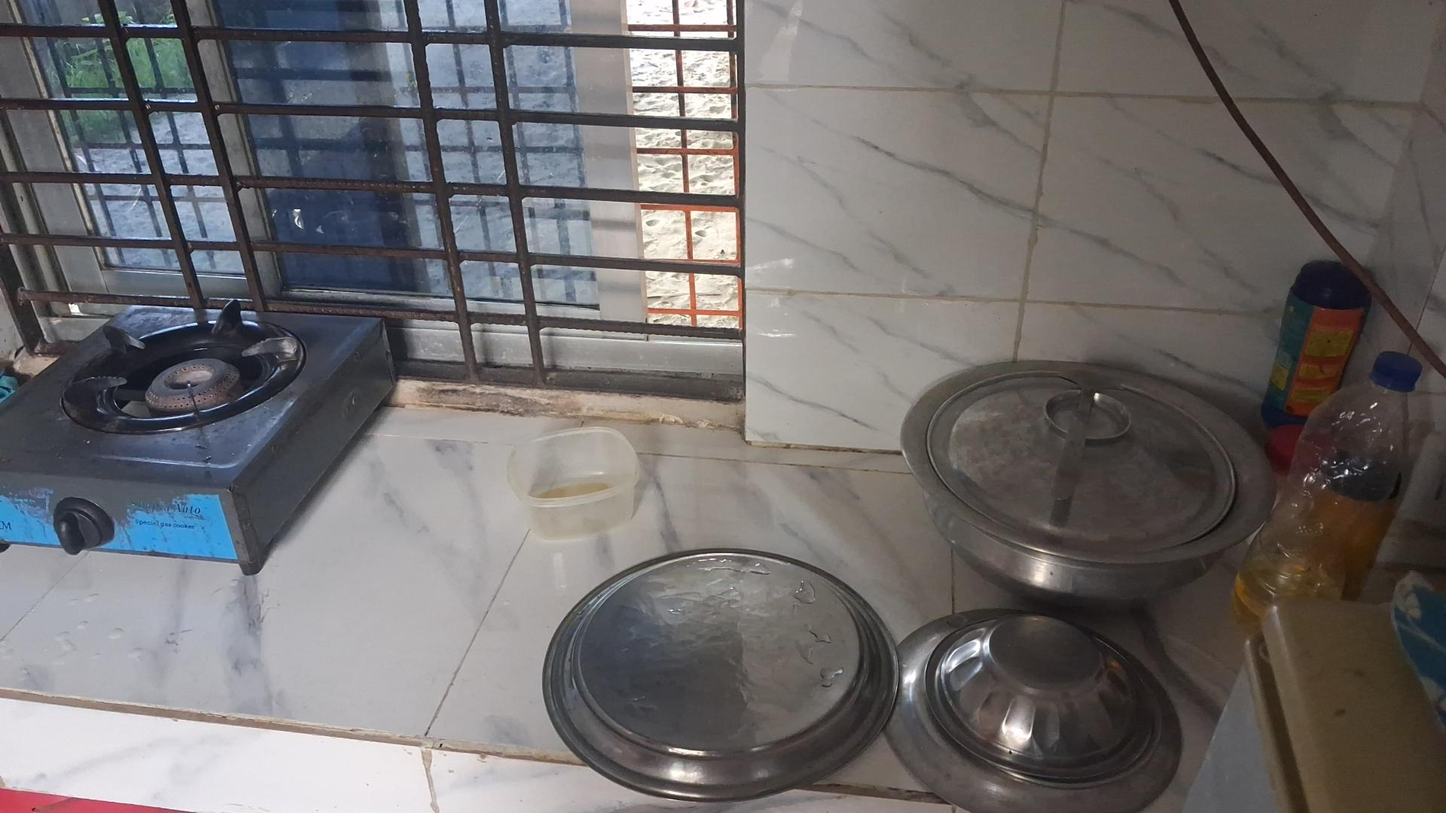Bottle: (1230, 350, 1424, 631)
Bowl: (924, 618, 1156, 778)
Jar: (1266, 263, 1379, 416), (507, 422, 645, 535)
Plate: (543, 551, 908, 805)
Pot: (898, 347, 1266, 595)
Spoon: (1043, 360, 1119, 537)
